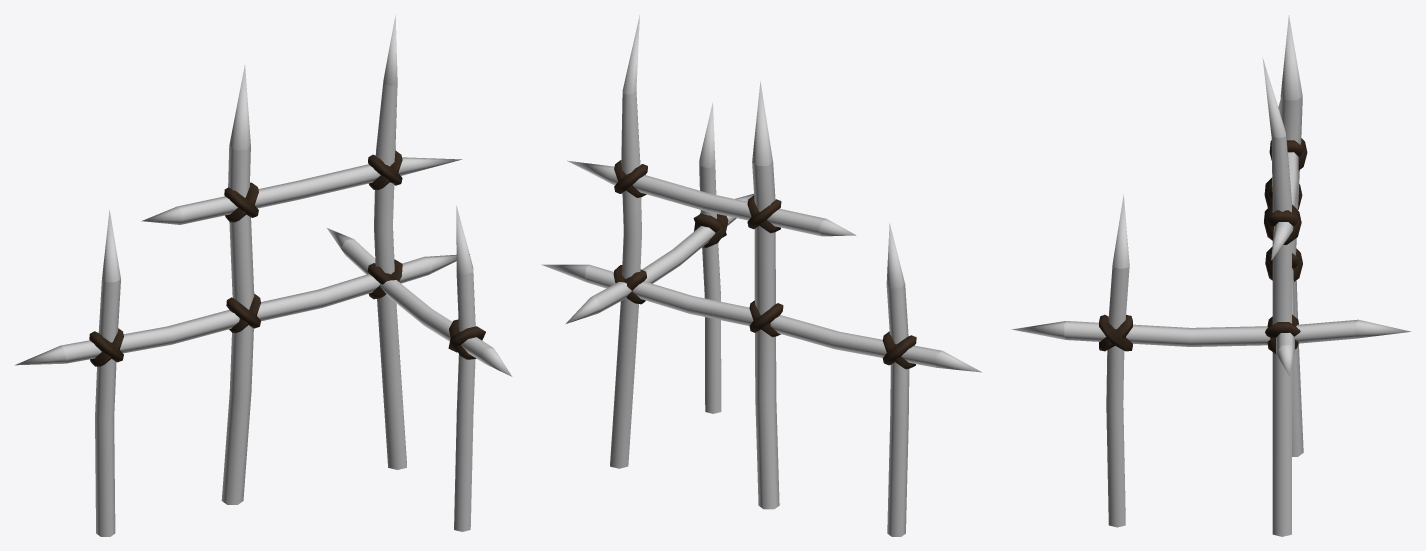
File: lower_city_wood_lattice_03.fbx
3 views of the same model, side by side, from view 1: azimuth 30°, elevation 25°; view 2: azimuth 150°, elevation 25°; view 3: azimuth 270°, elevation 25° (orthographic). The views are drawn at different scales.
Visible parts, largest first — view 1: lower_city_wood_lattice_03; view 2: lower_city_wood_lattice_03; view 3: lower_city_wood_lattice_03.
Boxes of the visible parts, box(x1,y1,x2,y2) form: lower_city_wood_lattice_03: box(15, 15, 512, 536); lower_city_wood_lattice_03: box(541, 15, 981, 536); lower_city_wood_lattice_03: box(1011, 15, 1410, 536).
Bounding box in the file's own units: 1.8 × 1.73 × 1.34.
